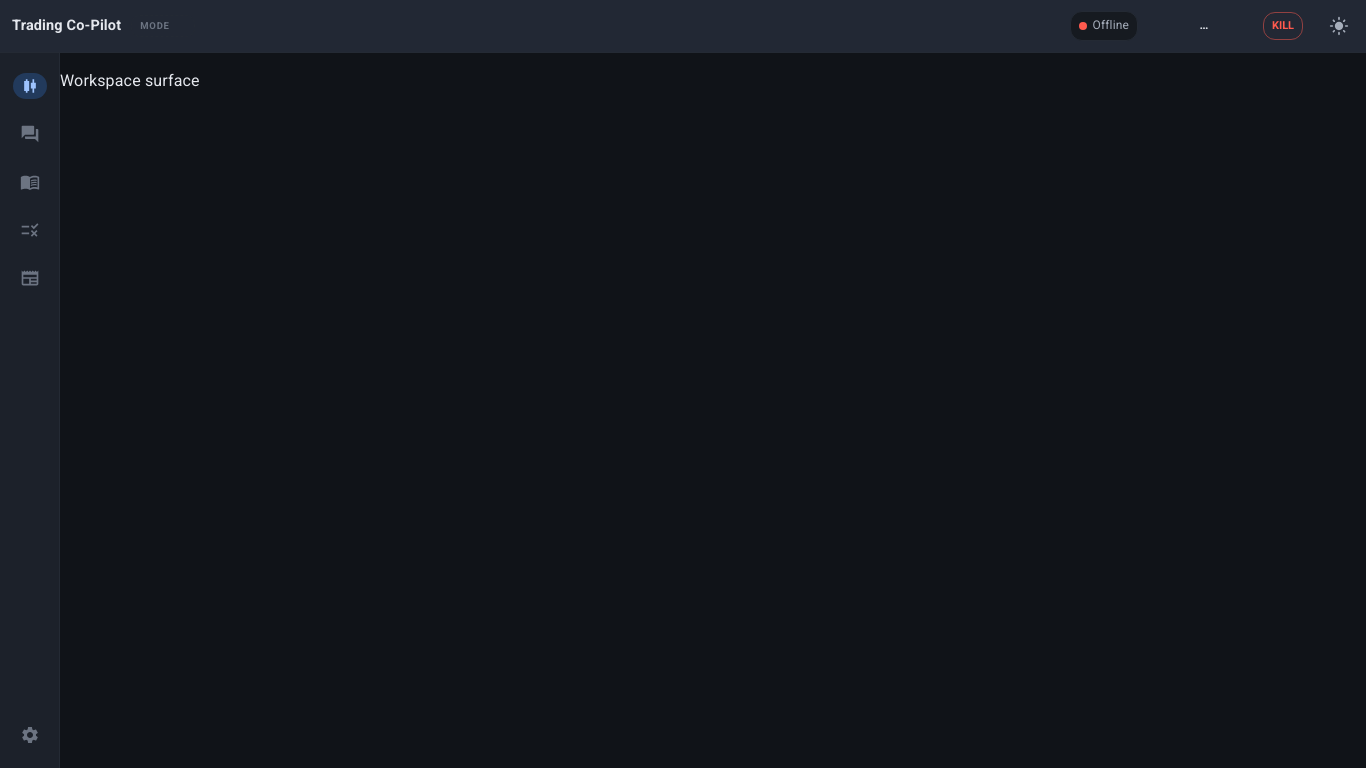
Test case: adaptive navigation › navigates to a destination when clicked at medium
This screenshot has width=1366, height=768.
Expected: the text "Workspace surface" is shown, [60,71,200,90]
What coordinates should you click on to do the following:
click the link named "Rulebook"
I would click on:
 (30, 230)
Its box is [20,220,40,240].
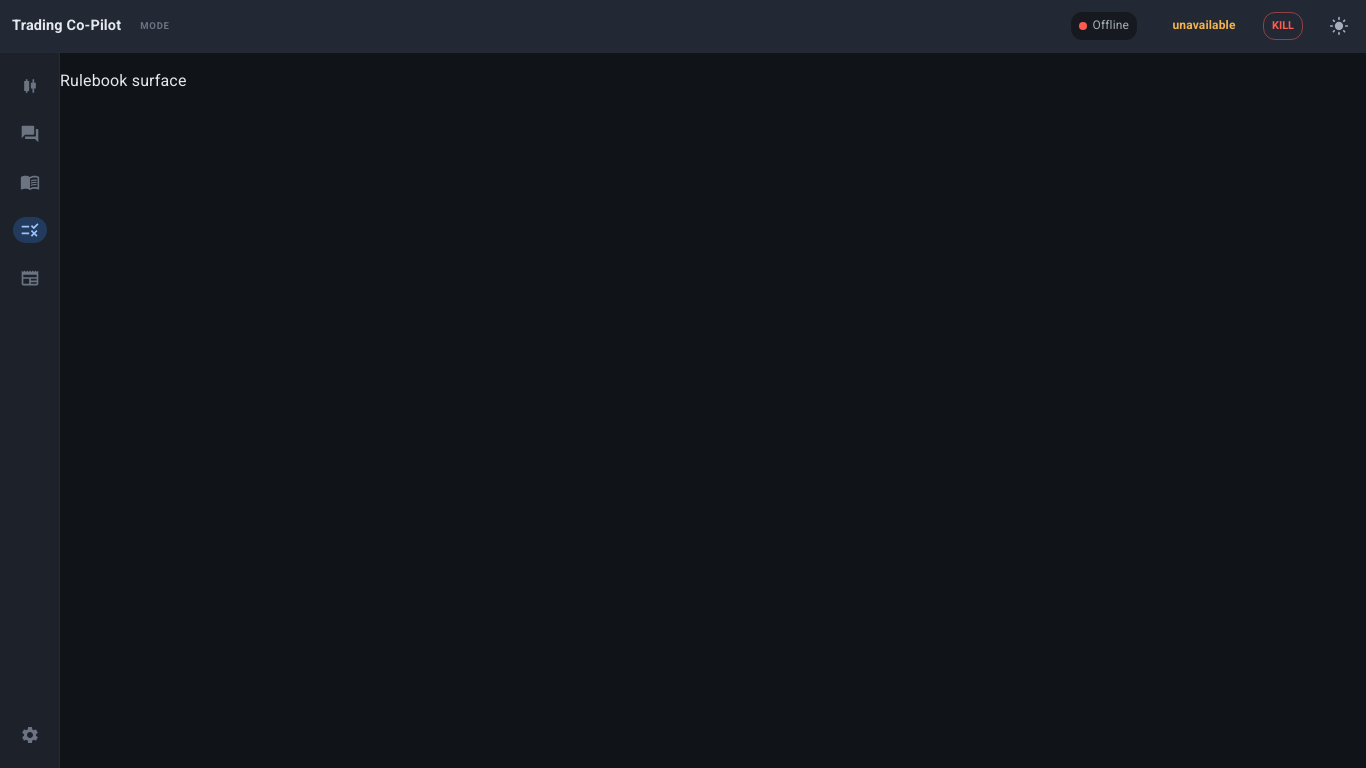
Expected: the text "Rulebook surface" is shown, [60,71,186,90]
